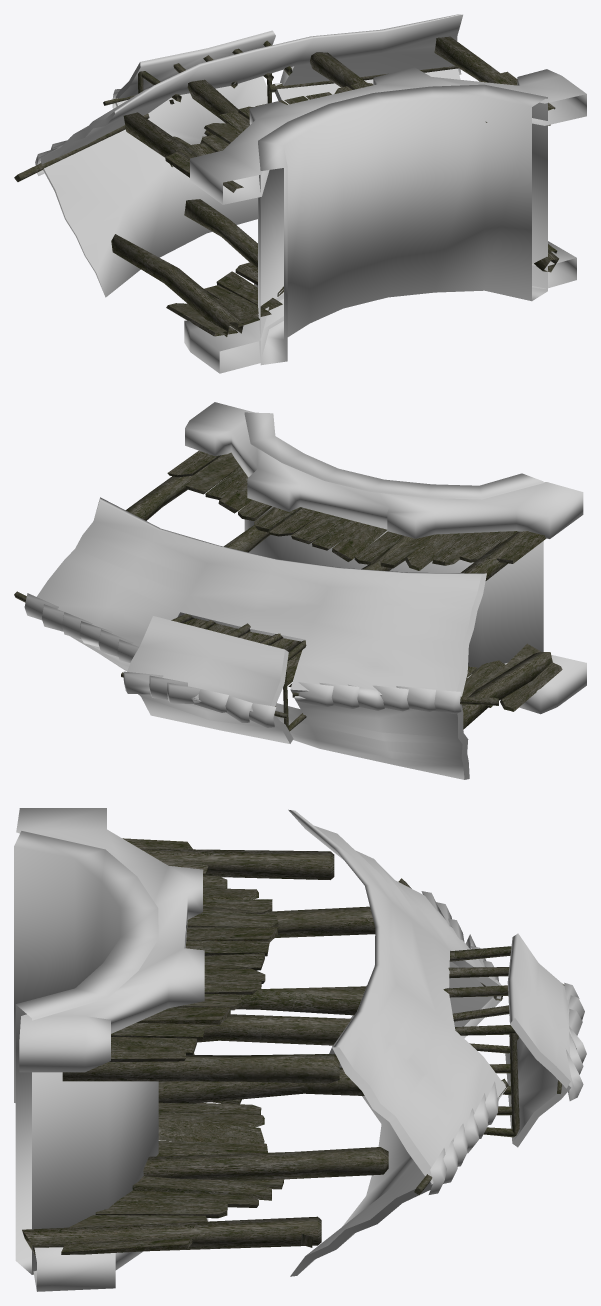
Rendered from TI_Small_Bridge_01_LOD_01.fbx.
3 views of the same model, one above another, from view 1: azimuth 30°, elevation 25°; view 2: azimuth 150°, elevation 25°; view 3: azimuth 270°, elevation 25° (orthographic). The views are drawn at different scales.
Visible parts, largest first — view 1: TI_Small_Bridge_Stone_01_LOD_01, TI_Small_Bridge_Roof_01_LOD_01, TI_Small_Bridge_Wood_01_LOD_01; view 2: TI_Small_Bridge_Roof_01_LOD_01, TI_Small_Bridge_Stone_01_LOD_01, TI_Small_Bridge_Wood_01_LOD_01; view 3: TI_Small_Bridge_Wood_01_LOD_01, TI_Small_Bridge_Stone_01_LOD_01, TI_Small_Bridge_Roof_01_LOD_01.
Part boxes in pixels (left/top/right/bottom): TI_Small_Bridge_Stone_01_LOD_01: left=184, top=67, right=586, bottom=373; TI_Small_Bridge_Roof_01_LOD_01: left=35, top=14, right=462, bottom=297; TI_Small_Bridge_Wood_01_LOD_01: left=14, top=36, right=558, bottom=336; TI_Small_Bridge_Roof_01_LOD_01: left=24, top=497, right=486, bottom=779; TI_Small_Bridge_Stone_01_LOD_01: left=185, top=402, right=586, bottom=714; TI_Small_Bridge_Wood_01_LOD_01: left=14, top=451, right=562, bottom=731; TI_Small_Bridge_Wood_01_LOD_01: left=22, top=838, right=564, bottom=1254; TI_Small_Bridge_Stone_01_LOD_01: left=14, top=808, right=208, bottom=1291; TI_Small_Bridge_Roof_01_LOD_01: left=288, top=809, right=586, bottom=1276.
Bounding box in the file's own units: 10.29 × 4.16 × 8.18.
